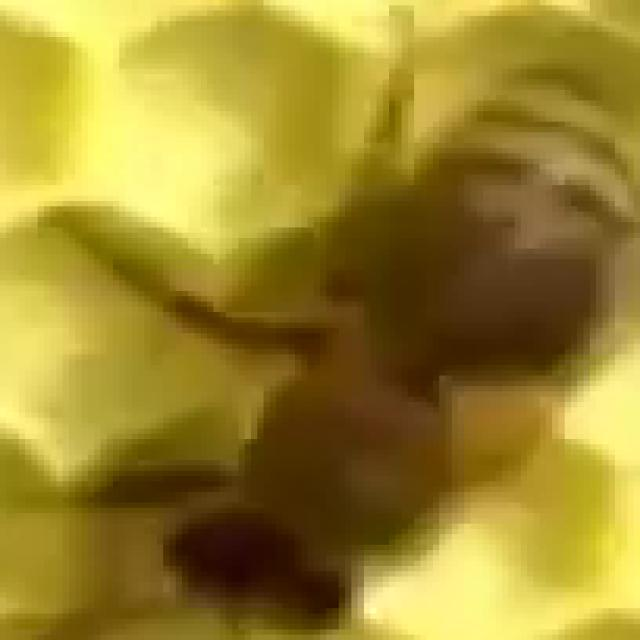honeybee: (148, 45, 640, 640)
